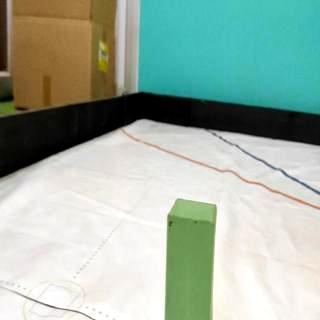greenbox: (166, 194, 218, 320)
